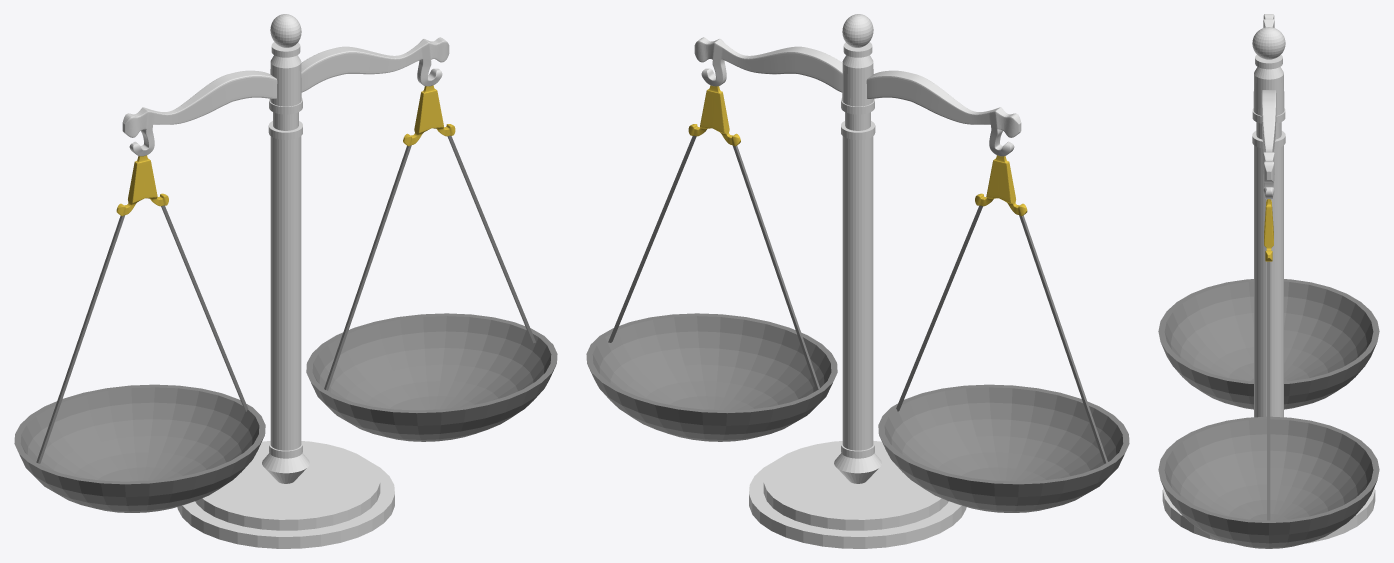
File: Scales_Updated.fbx
3 renders of one model, left to right at view 1: azimuth 30°, elevation 25°; view 2: azimuth 150°, elevation 25°; view 3: azimuth 270°, elevation 25°, orthographic. The views are drawn at different scales.
Parts seen in each view (by area): view 1: Cylinder, Traveça.2, Traveça.1, Cube, Fio.1, Fio.2, Suporte.2, Suporte.1, Sphere; view 2: Cylinder, Traveça.2, Traveça.1, Cube, Fio.1, Fio.2, Suporte.2, Suporte.1, Sphere; view 3: Traveça.2, Traveça.1, Cylinder, Cube, Fio.2, Sphere, Suporte.2.
Part boxes in pixels (x1,y1,x2,y2): Cylinder: [177, 42, 394, 548]; Traveça.2: [306, 313, 557, 441]; Traveça.1: [14, 384, 265, 512]; Cube: [122, 37, 449, 156]; Fio.1: [36, 205, 248, 463]; Fio.2: [324, 135, 535, 390]; Suporte.2: [403, 85, 455, 146]; Suporte.1: [116, 155, 168, 216]; Sphere: [270, 14, 301, 47]; Cylinder: [749, 42, 966, 548]; Traveça.2: [586, 313, 837, 441]; Traveça.1: [878, 384, 1129, 512]; Cube: [694, 37, 1021, 156]; Fio.1: [896, 205, 1107, 463]; Fio.2: [608, 135, 820, 390]; Suporte.2: [688, 85, 740, 146]; Suporte.1: [975, 155, 1027, 216]; Sphere: [842, 14, 873, 47]; Traveça.2: [1158, 416, 1379, 548]; Traveça.1: [1158, 279, 1379, 409]; Cylinder: [1162, 55, 1375, 543]; Cube: [1261, 14, 1276, 198]; Fio.2: [1267, 261, 1270, 520]; Sphere: [1252, 27, 1285, 59]; Suporte.2: [1264, 199, 1273, 261].
Size of the model in its own units: 5.14 by 4.63 by 1.96.
